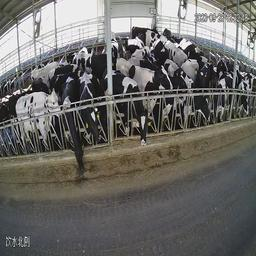cow: (104, 65, 143, 154), (16, 89, 60, 156), (60, 70, 85, 173), (79, 71, 105, 160), (144, 62, 173, 116), (188, 74, 209, 131), (215, 69, 235, 122), (119, 27, 145, 61), (172, 73, 188, 117), (237, 77, 250, 119), (150, 33, 168, 63)
